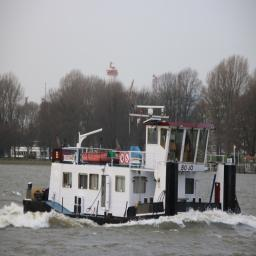tugboat: (22, 102, 246, 234)
